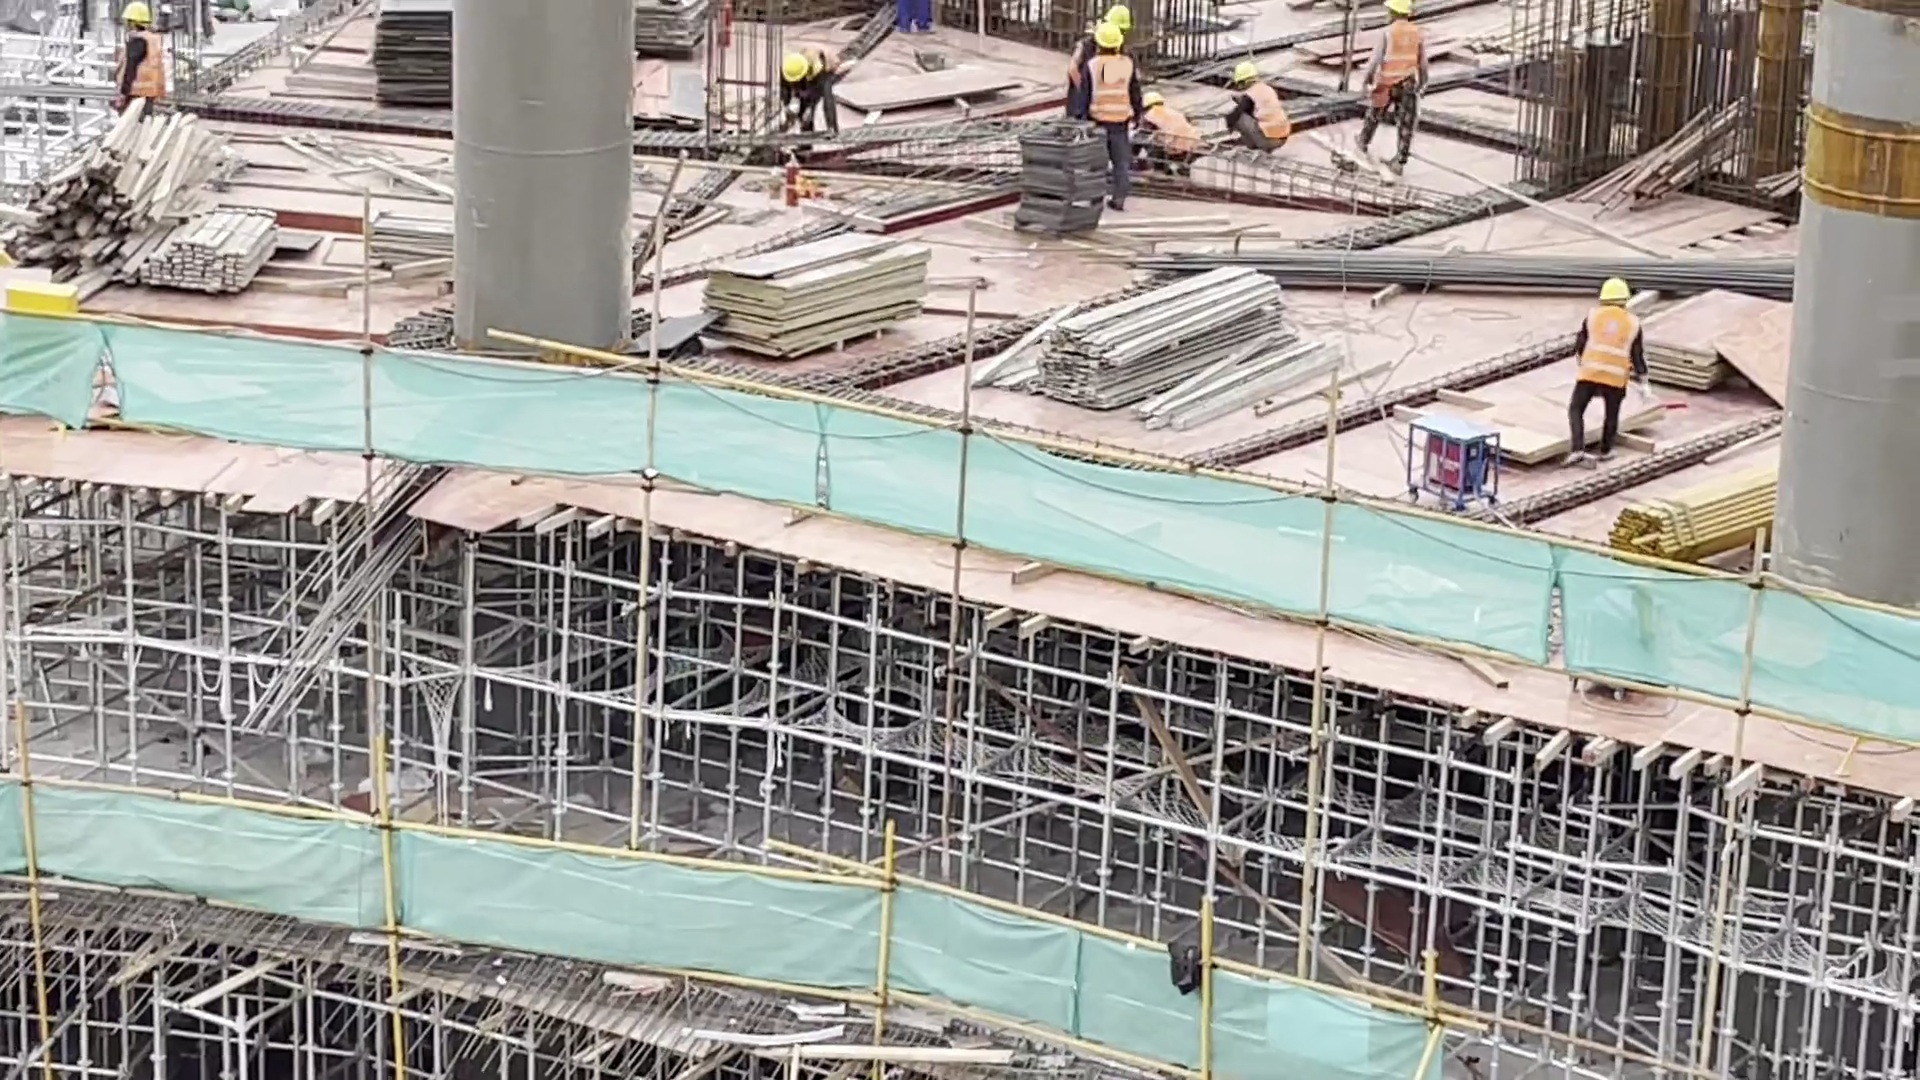helmet: (1596, 276, 1633, 303), (781, 50, 810, 84), (1097, 24, 1125, 49), (1106, 4, 1132, 30), (122, 1, 152, 24), (1233, 61, 1258, 82), (1382, 1, 1418, 15)
person: (1569, 270, 1649, 477), (1356, 1, 1429, 188), (1080, 21, 1144, 225), (1217, 54, 1291, 156), (108, 5, 173, 108), (778, 45, 848, 132), (1069, 5, 1126, 106), (1135, 86, 1202, 165)
vest: (1575, 305, 1638, 392), (120, 28, 168, 99), (1087, 56, 1136, 124), (1373, 22, 1423, 85), (1147, 106, 1202, 154), (1245, 86, 1292, 140)
